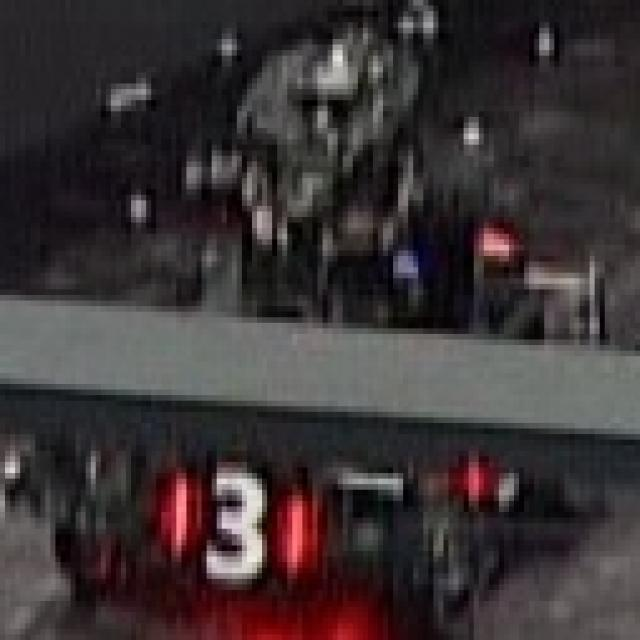R3: (162, 451, 312, 584)
